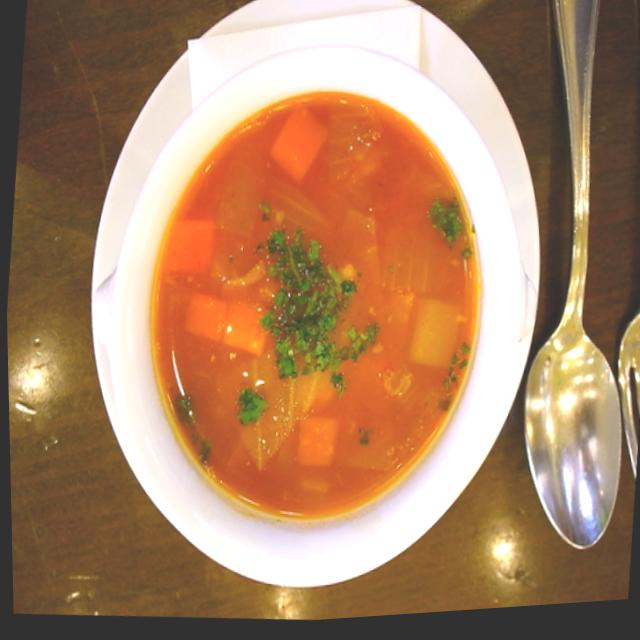汤锅炖物: (0, 0, 583, 639)
